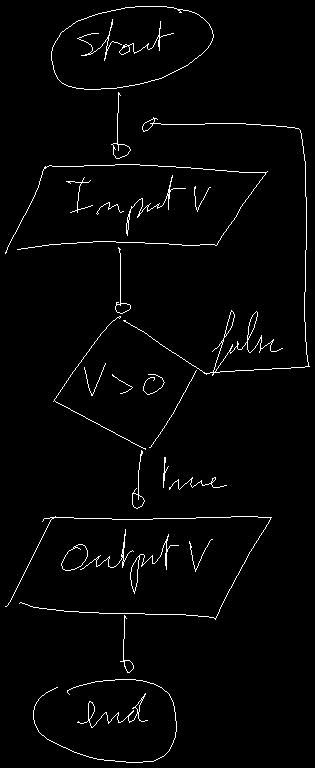arrow: (142, 117, 309, 374), (111, 92, 130, 158), (115, 247, 130, 313), (120, 615, 133, 672), (132, 450, 144, 508)
data: (5, 516, 271, 619), (5, 164, 267, 253)
decision: (53, 316, 205, 449)
terminator: (51, 6, 213, 89), (33, 679, 176, 762)
text: (61, 529, 212, 593), (66, 175, 210, 235), (212, 310, 282, 375), (77, 19, 173, 60), (84, 363, 164, 395), (77, 693, 147, 727), (163, 457, 226, 489)
